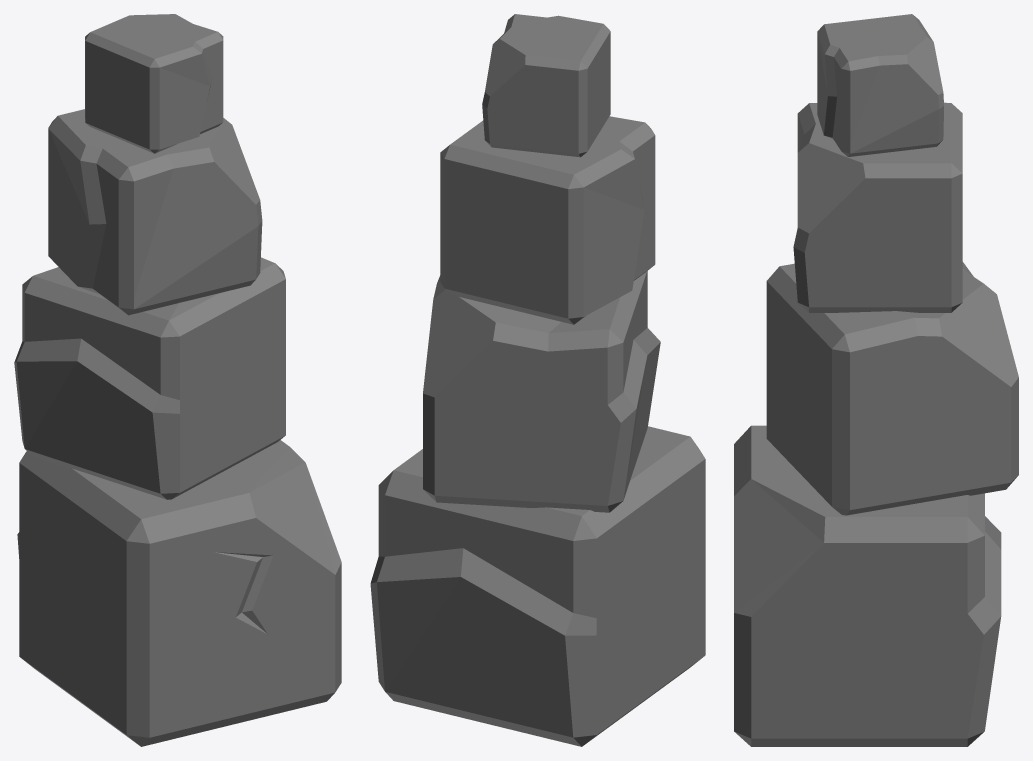
The model's file is model_polytope_rocks01.fbx.
The picture shows the model from 3 angles, left to right: view 1: azimuth 30°, elevation 25°; view 2: azimuth 150°, elevation 25°; view 3: azimuth 270°, elevation 25°; orthographic projection.
Visible parts, largest first — view 1: model_polytope_rocks01; view 2: model_polytope_rocks01; view 3: model_polytope_rocks01.
Boxes of the visible parts, x1,y1,x2,y2 form: model_polytope_rocks01: (14,14,341,746); model_polytope_rocks01: (370,14,705,746); model_polytope_rocks01: (734,14,1018,746).
Size of the model in its own units: 210 by 551 by 217.
